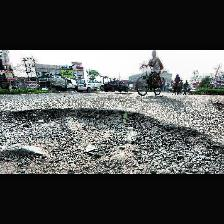pothole: (0, 108, 224, 174)
